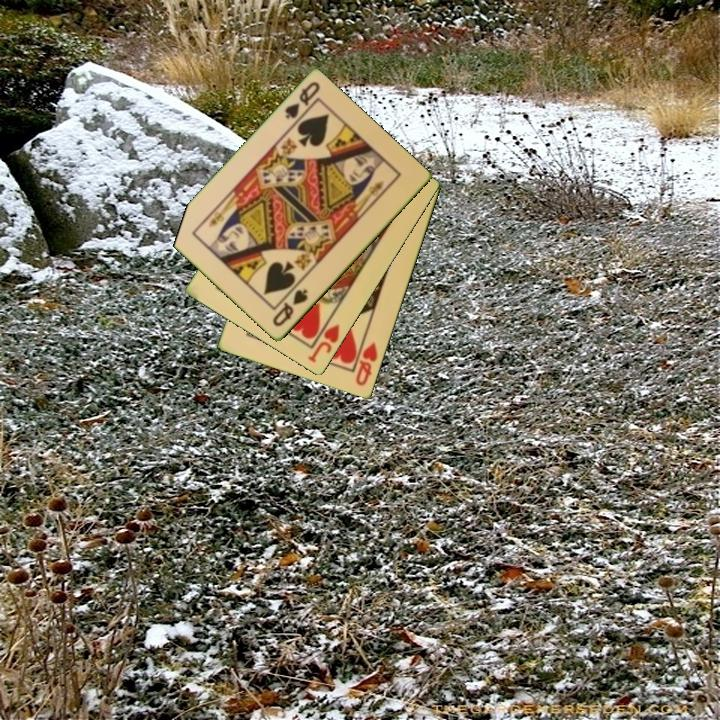Jh: (304, 321, 343, 366)
Qh: (352, 339, 381, 389)
Qs: (281, 78, 323, 128), (269, 286, 311, 330)
